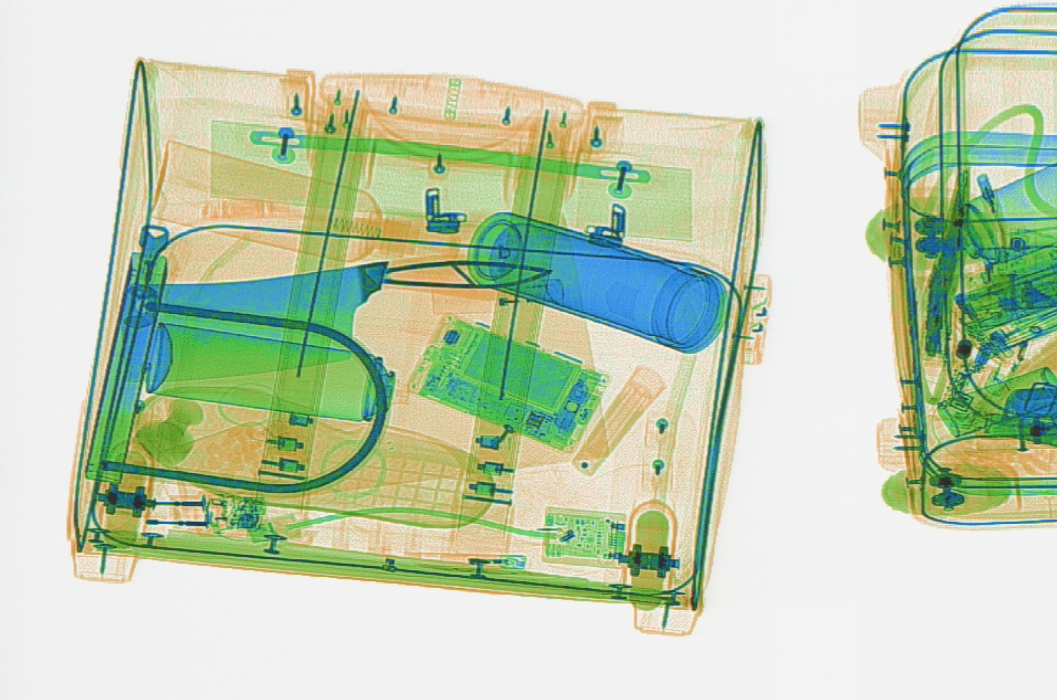knife: (114, 260, 551, 381)
pressure: (142, 321, 410, 423)
